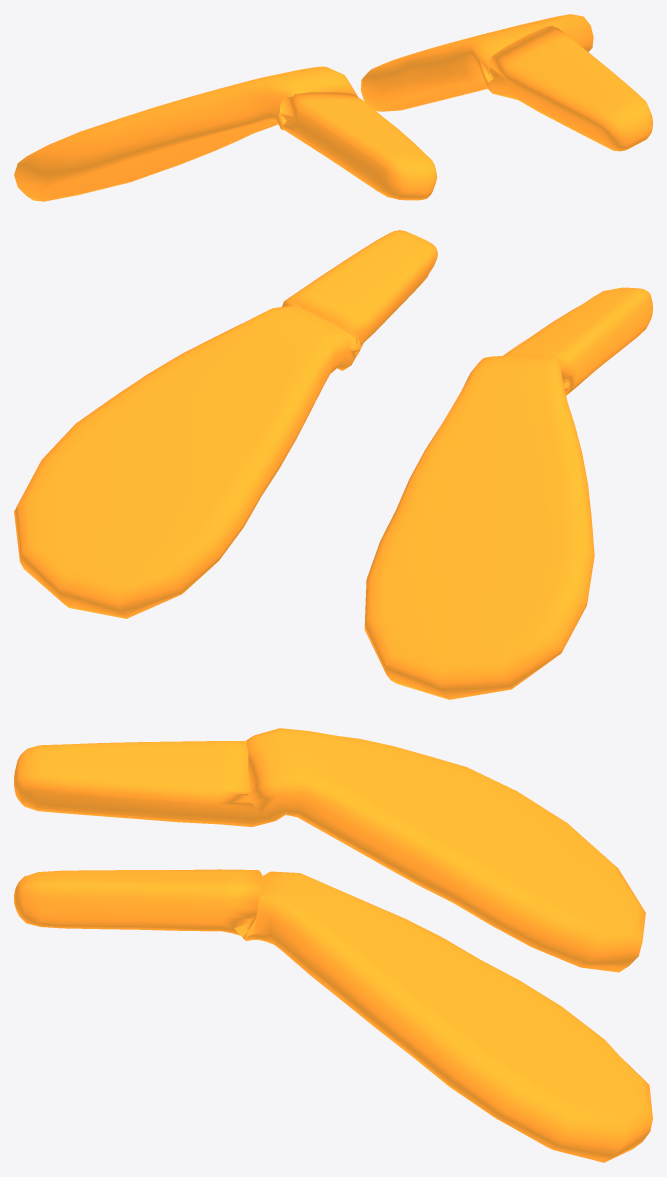
Rendered from b_legs.glb.
3 renders of one model, top to bottom at view 1: azimuth 30°, elevation 25°; view 2: azimuth 150°, elevation 25°; view 3: azimuth 270°, elevation 25°, orthographic. The views are drawn at different scales.
Parts seen in each view (by area): view 1: Legs; view 2: Legs; view 3: Legs.
Boxes of the visible parts, x1,y1,x2,y2 form: Legs: (14,14,652,201); Legs: (14,230,652,699); Legs: (14,728,652,1162).
Bounding box in the file's own units: 0.65 × 0.2414 × 0.5806.
